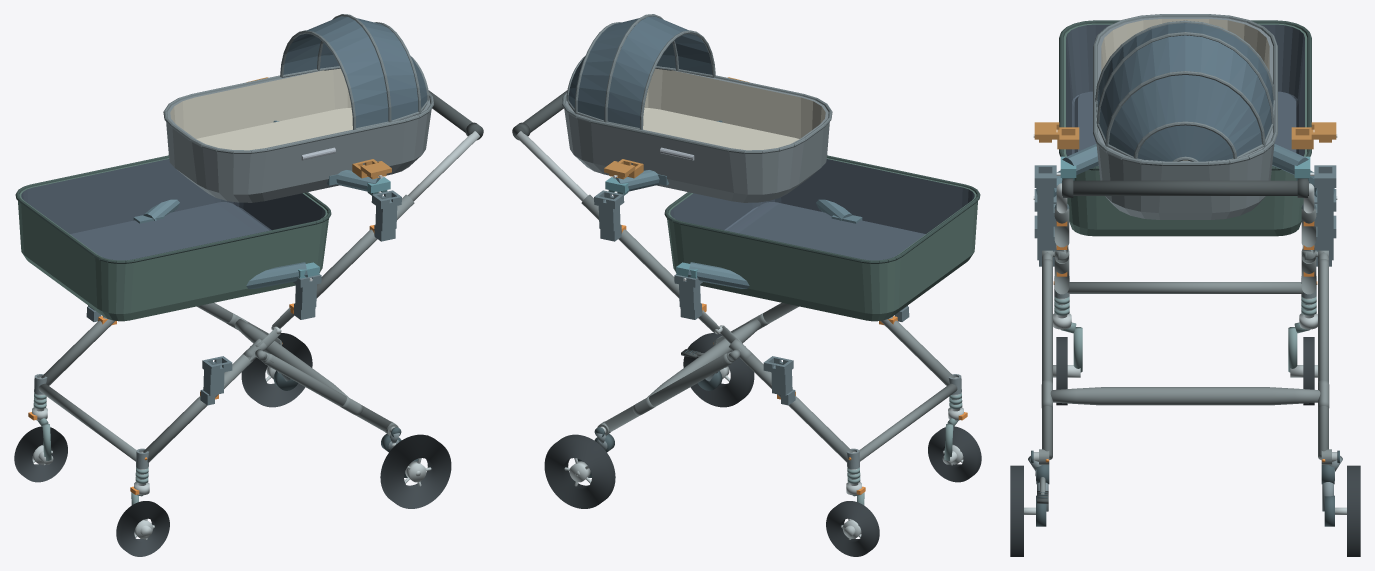
Rendered from D12_w650_state1_wheel_S.glb.
3 views of the same model, side by side, from view 1: azimuth 30°, elevation 25°; view 2: azimuth 150°, elevation 25°; view 3: azimuth 270°, elevation 25° (orthographic). The views are drawn at different scales.
Visible parts, largest first — view 1: D12_Lower, D12_Upper, RL_tire.008, RR_tire.008, FL_tire.008, FR_tire.008, D12_Lower_Mount_M, V46_rear_leg_-1.009, main_lower_-1.009, front_fixed_round_tube.008, main_upper_-1.009, V46_rearbar.009 (+8 smaller); view 2: D12_Lower, D12_Upper, RR_tire.008, FR_tire.008, RL_tire.008, FL_tire.008, D12_Lower_Mount_M, V46_rear_leg_1.009, main_lower_1.009, front_fixed_round_tube.008, main_upper_1.009, V46_rearbar.009 (+8 smaller); view 3: D12_Upper, D12_Lower, V46_rearbar.009, round_handle.008, front_fixed_round_tube.008, V46_rear_leg_1.009, V46_rear_leg_-1.009, D12_Upper_Mount_H, RL_tire.008, RR_tire.008, Universal_Cabin_Receiver_H_1, Universal_Cabin_Receiver_H_-1 (+10 smaller).
Part boxes in pixels (<box>): D12_Lower: <box>15,155,331,321</box>; D12_Upper: <box>163,14,433,202</box>; RL_tire.008: <box>380,434,451,508</box>; RR_tire.008: <box>241,333,312,407</box>; FL_tire.008: <box>116,501,169,556</box>; FR_tire.008: <box>14,426,67,482</box>; D12_Lower_Mount_M: <box>133,199,319,288</box>; V46_rear_leg_-1.009: <box>263,353,391,431</box>; main_lower_-1.009: <box>143,354,255,462</box>; front_fixed_round_tube.008: <box>38,383,136,461</box>; main_upper_-1.009: <box>316,194,414,298</box>; V46_rearbar.009: <box>234,319,348,397</box>; D12_Lower: <box>664,155,980,321</box>; D12_Upper: <box>562,14,832,202</box>; RR_tire.008: <box>544,434,615,508</box>; FR_tire.008: <box>826,501,879,556</box>; RL_tire.008: <box>683,333,754,407</box>; FL_tire.008: <box>928,426,981,482</box>; D12_Lower_Mount_M: <box>676,199,862,288</box>; V46_rear_leg_1.009: <box>604,353,732,431</box>; main_lower_1.009: <box>740,354,852,462</box>; front_fixed_round_tube.008: <box>859,383,957,461</box>; main_upper_1.009: <box>581,194,679,298</box>; V46_rearbar.009: <box>647,319,761,397</box>; D12_Upper: <box>1093,14,1277,219</box>; D12_Lower: <box>1059,20,1311,236</box>; V46_rearbar.009: <box>1050,387,1320,405</box>; round_handle.008: <box>1062,180,1308,195</box>; front_fixed_round_tube.008: <box>1067,282,1303,293</box>; V46_rear_leg_1.009: <box>1318,259,1328,459</box>; V46_rear_leg_-1.009: <box>1042,259,1052,459</box>; D12_Upper_Mount_H: <box>1056,144,1314,180</box>; RL_tire.008: <box>1010,465,1023,556</box>; RR_tire.008: <box>1347,465,1360,556</box>; Universal_Cabin_Receiver_H_1: <box>1314,165,1336,226</box>; Universal_Cabin_Receiver_H_-1: <box>1034,165,1056,226</box>.
Size of the model in its own units: 1.15 by 1.27 by 0.766.
